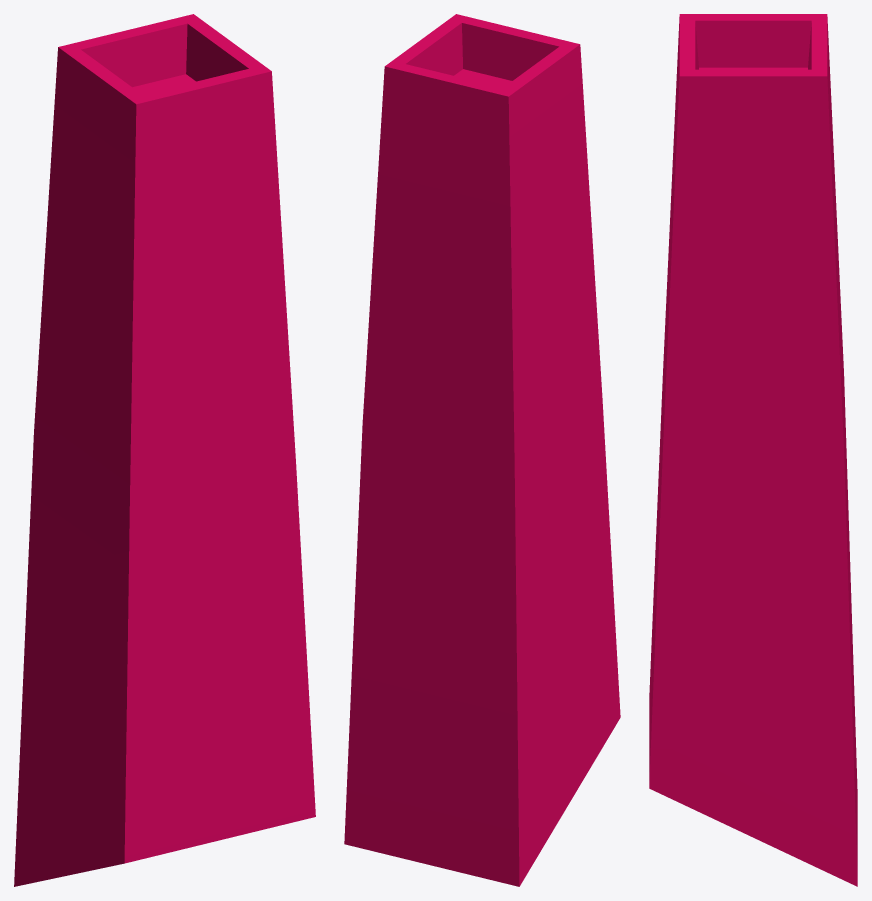
File: Background_House_Flue_01.fbx
3 renders of one model, left to right at view 1: azimuth 30°, elevation 25°; view 2: azimuth 150°, elevation 25°; view 3: azimuth 270°, elevation 25°, orthographic. The views are drawn at different scales.
Parts seen in each view (by area): view 1: Background_House_Flue_01; view 2: Background_House_Flue_01; view 3: Background_House_Flue_01.
Boxes of the visible parts, x1,y1,x2,y2 form: Background_House_Flue_01: (14,14,315,886); Background_House_Flue_01: (344,14,620,886); Background_House_Flue_01: (649,14,857,886).
Bounding box in the file's own units: 117 × 496 × 117.
